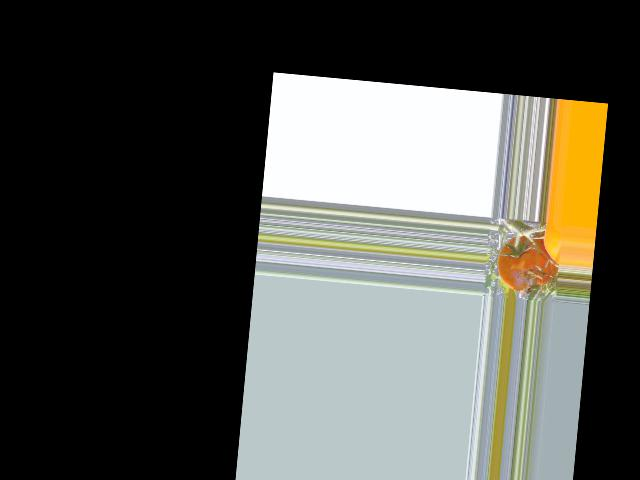tomato: (494, 233, 560, 296)
